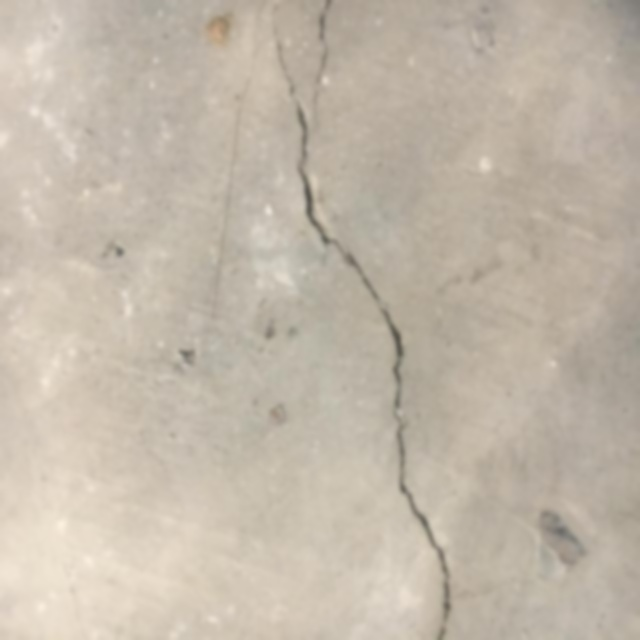SurfaceCrack: (221, 1, 486, 640)
